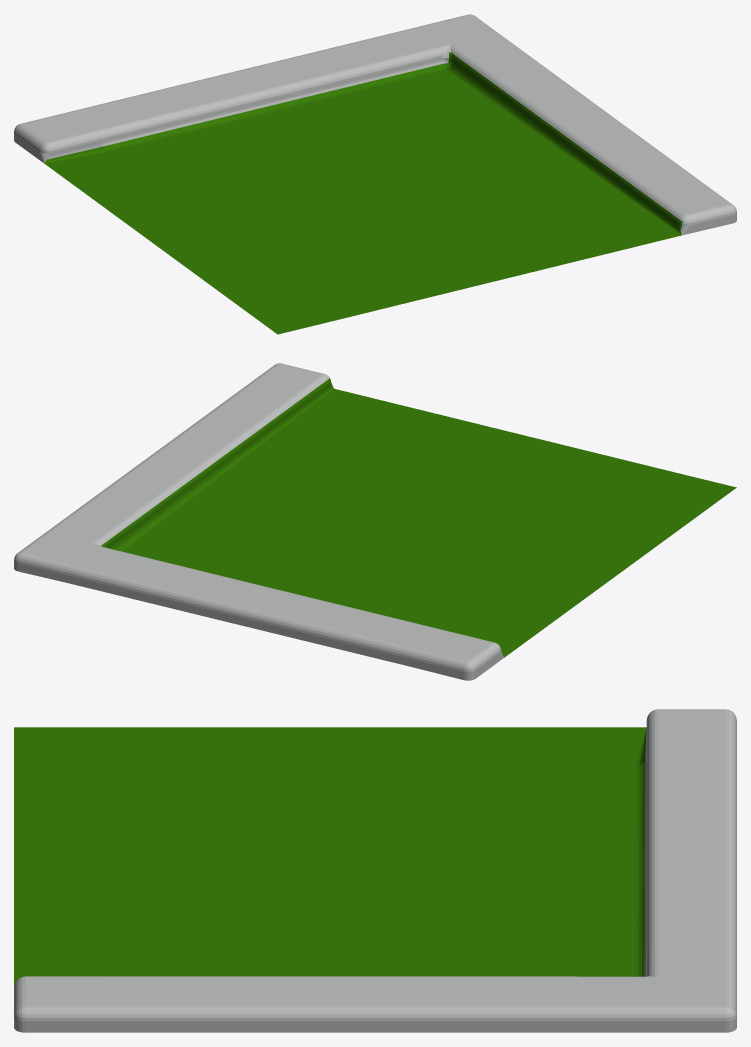
Rendered from Angle_grass.fbx.
The picture shows the model from 3 angles, top to bottom: view 1: azimuth 30°, elevation 25°; view 2: azimuth 150°, elevation 25°; view 3: azimuth 270°, elevation 25°; orthographic projection. The views are drawn at different scales.
Visible parts, largest first — view 1: Plan.010; view 2: Plan.010; view 3: Plan.010.
Boxes of the visible parts, <box> form: Plan.010: <box>14,14,736,334</box>; Plan.010: <box>14,363,736,680</box>; Plan.010: <box>14,709,736,1032</box>.
Size of the model in its own units: 800 by 26.78 by 800.
